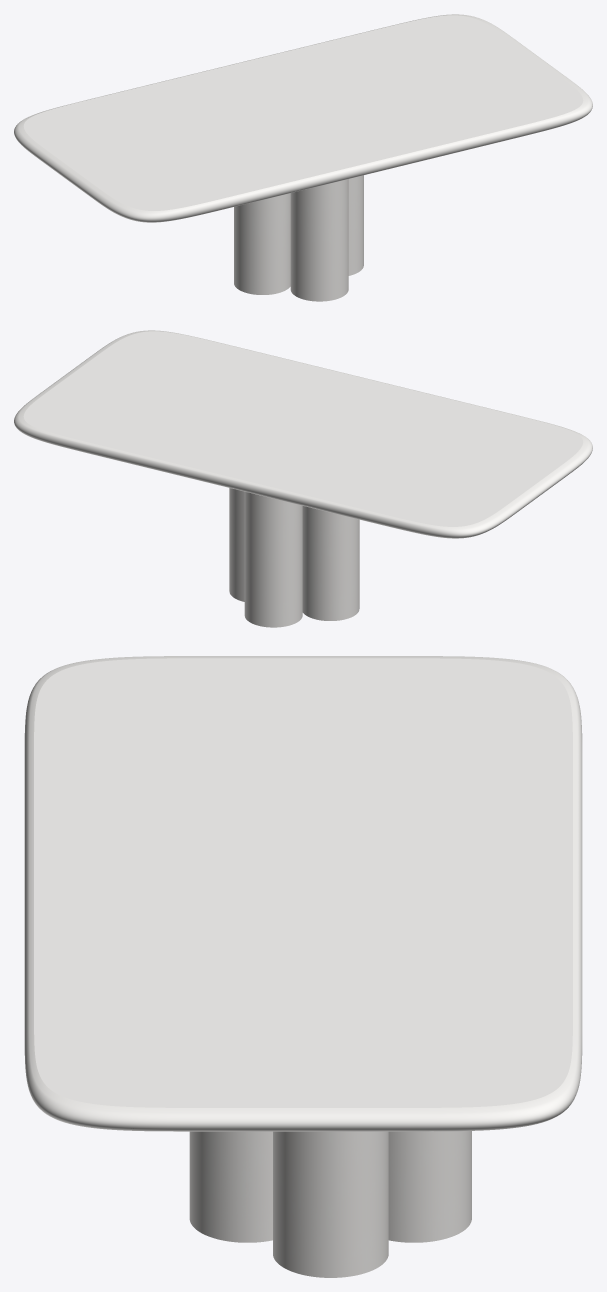
Rendered from purewhite_softrecta_round_secondtable.glb.
The picture shows the model from 3 angles, top to bottom: view 1: azimuth 30°, elevation 25°; view 2: azimuth 150°, elevation 25°; view 3: azimuth 270°, elevation 25°; orthographic projection. The views are drawn at different scales.
Parts seen in each view (by area): view 1: round_softrecta, secondtable; view 2: round_softrecta, secondtable; view 3: round_softrecta, secondtable.
Part boxes in pixels (box(x1,y1,x2,y2)): round_softrecta: box(14, 14, 592, 222); secondtable: box(234, 175, 363, 301); round_softrecta: box(14, 330, 592, 538); secondtable: box(229, 488, 359, 627); round_softrecta: box(24, 656, 582, 1131); secondtable: box(189, 1131, 471, 1277).
Bounding box in the file's own units: 7.5 × 2.5 × 3.8.
1 material, 1 textured.
